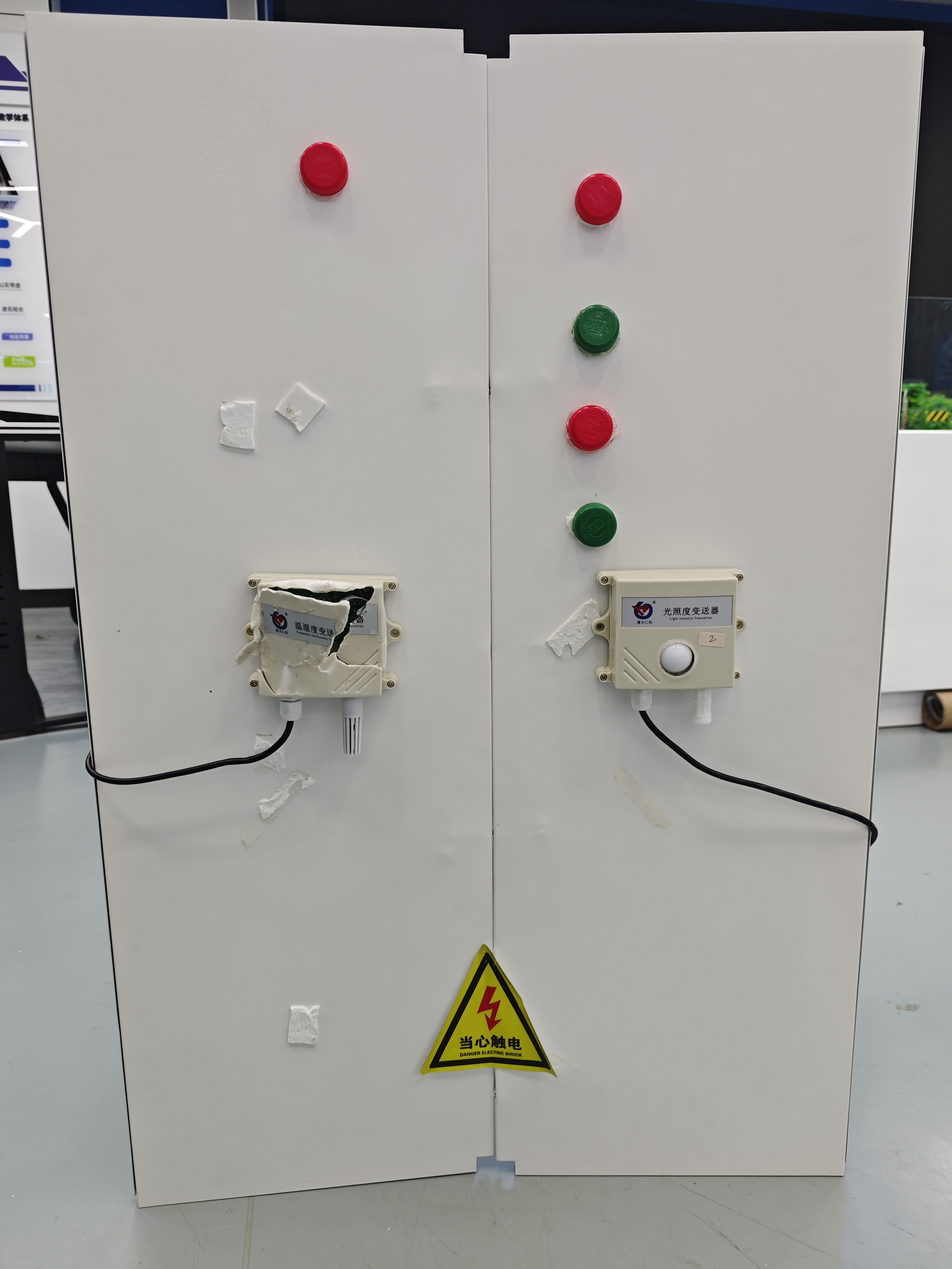red_warning: (565, 149, 653, 257), (548, 385, 620, 468)
sensor_damage: (228, 542, 426, 772)
